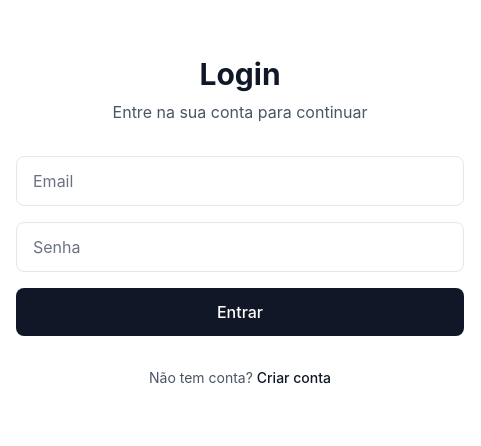
Test: Auth Flow Integration › login with invalid credentials shows errors
Type "wrong@test.com" into the field with placeholder "Email" at (240, 181), box [16, 156, 464, 206]
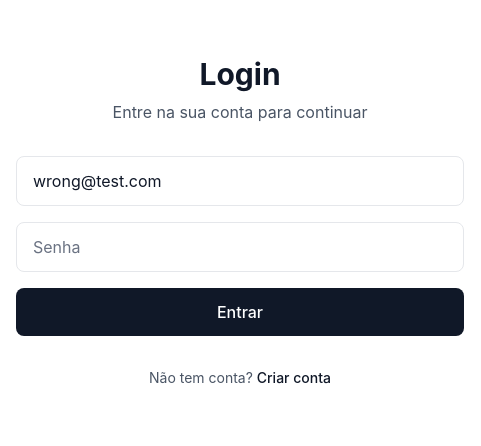
Type "wrongpassword" into the password field with placeholder "Senha" at (240, 247), box [16, 222, 464, 272]
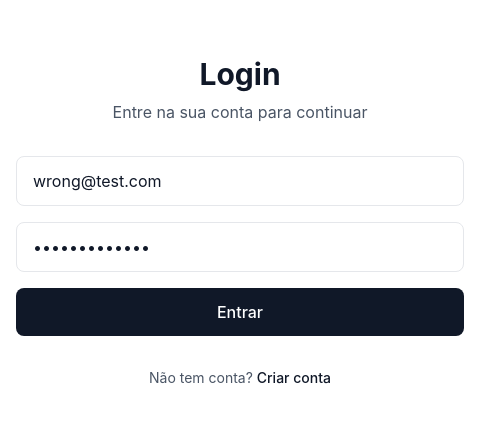
Submit the form with placeholder "email", box [16, 156, 464, 336]
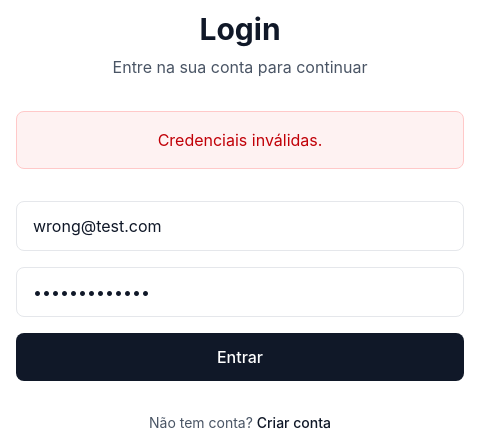
Result: the text "Credenciais inválidas." is shown at [16, 111, 464, 169]
